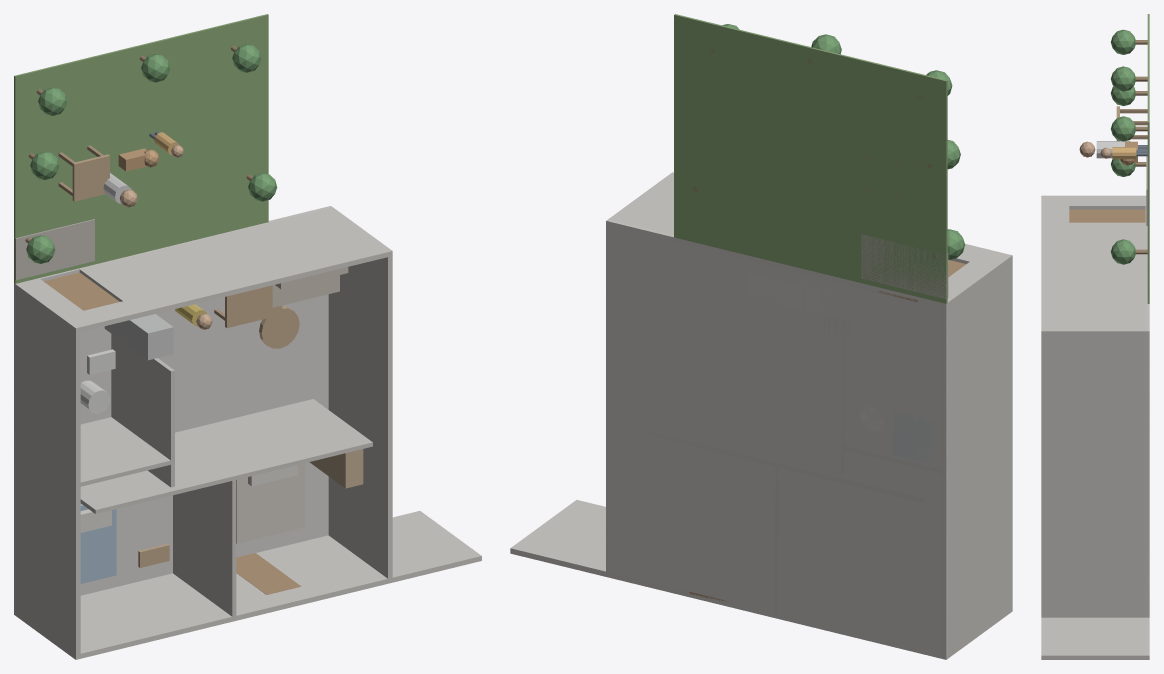
File: castilla_techo_propio_OBJ.glb
The picture shows the model from 3 angles, left to right: view 1: azimuth 30°, elevation 25°; view 2: azimuth 150°, elevation 25°; view 3: azimuth 270°, elevation 25°; orthographic projection. The views are drawn at different scales.
Parts seen in each view (by area): view 1: garden_ground, floor_house, wall_left, front_wall_L, wall_right, rear_wall_mid, partition_bedrooms, partition_bedrooms_vertical, bath_wall_v, main_bed_mattress, bath_wall_h, rear_patio (+12 smaller); view 2: floor_house, garden_ground, wall_left, front_wall_L, rear_patio, rear_wall_mid, shower, rear_wall_left, partition_bedrooms, wall_right; view 3: wall_right, rear_wall_mid, front_wall_L, floor_house, rear_wall_left, rear_door, garden_ground, rear_header, plant_leaf_4, plant_leaf_5, plant_leaf_3, plant_leaf_2 (+6 smaller).
Boxes of the visible parts, box(x1,y1,x2,y2) form: garden_ground: box(14, 14, 268, 283); floor_house: box(14, 206, 332, 615); wall_left: box(14, 283, 80, 659); front_wall_L: box(16, 511, 481, 659); wall_right: box(328, 206, 392, 583); rear_wall_mid: box(79, 206, 392, 317); partition_bedrooms: box(80, 399, 372, 513); partition_bedrooms_vertical: box(173, 480, 236, 619); bath_wall_v: box(111, 334, 174, 487); main_bed_mattress: box(236, 463, 305, 543); bath_wall_h: box(78, 417, 172, 487); rear_patio: box(14, 219, 94, 280); floor_house: box(606, 219, 948, 659); garden_ground: box(674, 14, 947, 303); wall_left: box(941, 254, 1012, 659); front_wall_L: box(510, 500, 1002, 655); rear_patio: box(861, 234, 948, 298); rear_wall_mid: box(610, 173, 878, 292); shower: box(893, 411, 935, 465); rear_wall_left: box(920, 249, 1012, 308); partition_bedrooms: box(627, 426, 924, 503); wall_right: box(606, 172, 673, 577); wall_right: box(1041, 329, 1149, 617); rear_wall_mid: box(1041, 222, 1149, 335); front_wall_L: box(1041, 617, 1149, 659); floor_house: box(1145, 196, 1149, 617); rear_wall_left: box(1041, 196, 1146, 209); rear_door: box(1069, 209, 1145, 222); garden_ground: box(1147, 14, 1149, 303); rear_header: box(1041, 206, 1069, 229); plant_leaf_4: box(1111, 116, 1135, 141); plant_leaf_5: box(1111, 239, 1135, 264); plant_leaf_3: box(1111, 66, 1135, 91); plant_leaf_2: box(1110, 29, 1135, 54).
Bounding box in the file's own units: 10.27 × 13.02 × 2.7.
